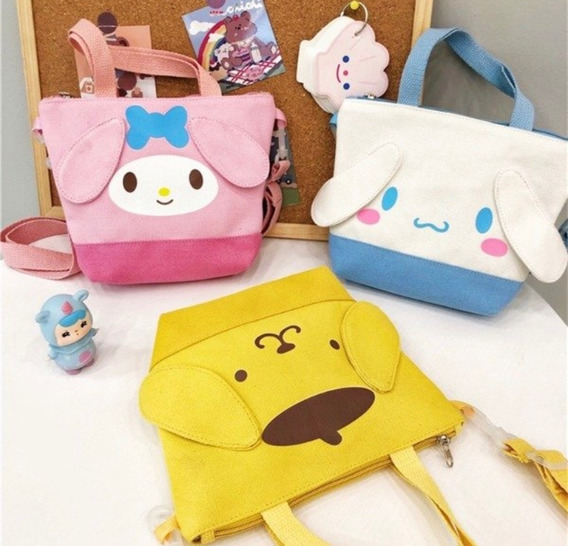cartera: (139, 261, 479, 546), (321, 27, 568, 319), (26, 18, 279, 281)
